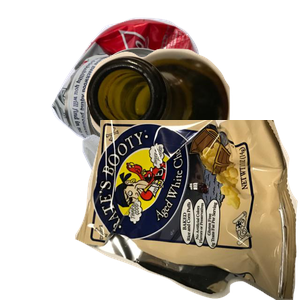glass: (82, 46, 300, 199)
metal: (48, 15, 251, 175)
plastic: (80, 120, 289, 300)
trash: (75, 120, 300, 300)
